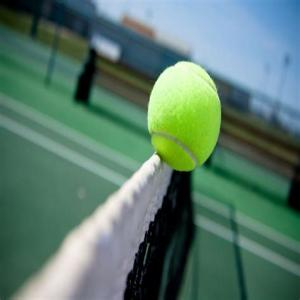Tennis: (147, 56, 224, 173)
